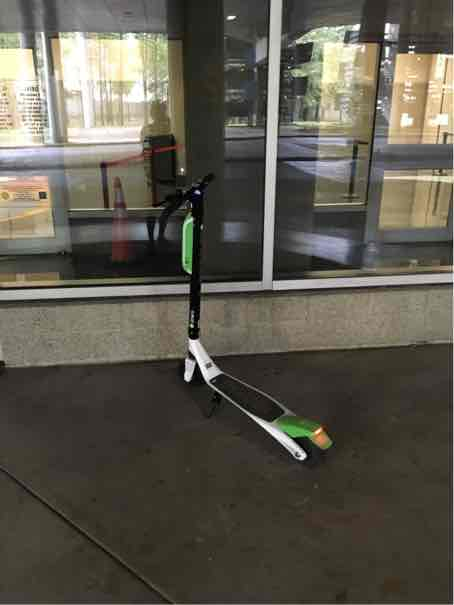scooter: (134, 165, 340, 475)
